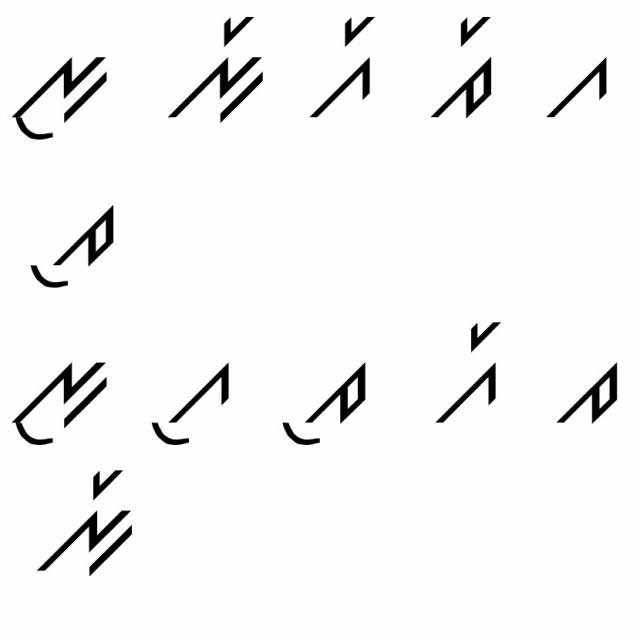ga: (539, 42, 613, 129)
gar: (308, 11, 389, 126), (430, 315, 510, 431)
gaw: (142, 358, 237, 459)
ngar: (163, 12, 271, 124), (36, 467, 136, 586)
ngaw: (9, 42, 116, 148), (11, 350, 114, 455)
ta: (544, 351, 627, 432)
tar: (431, 11, 507, 129)
taw: (269, 352, 379, 456), (22, 196, 130, 301)
